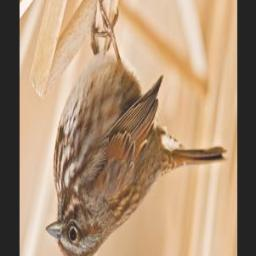Sparrow: (44, 0, 227, 256)
